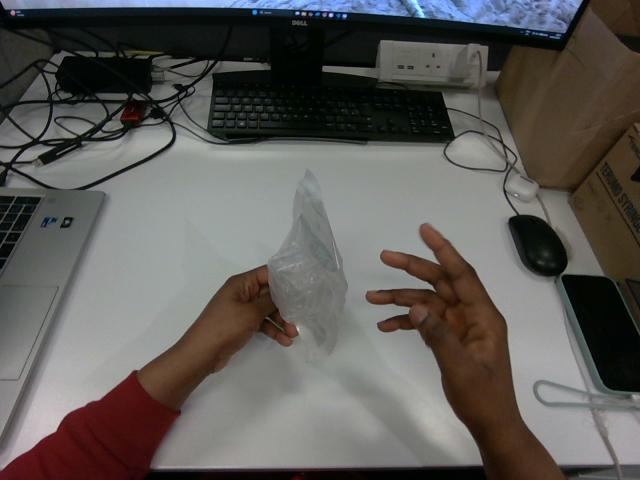gallipot: (268, 170, 348, 362)
